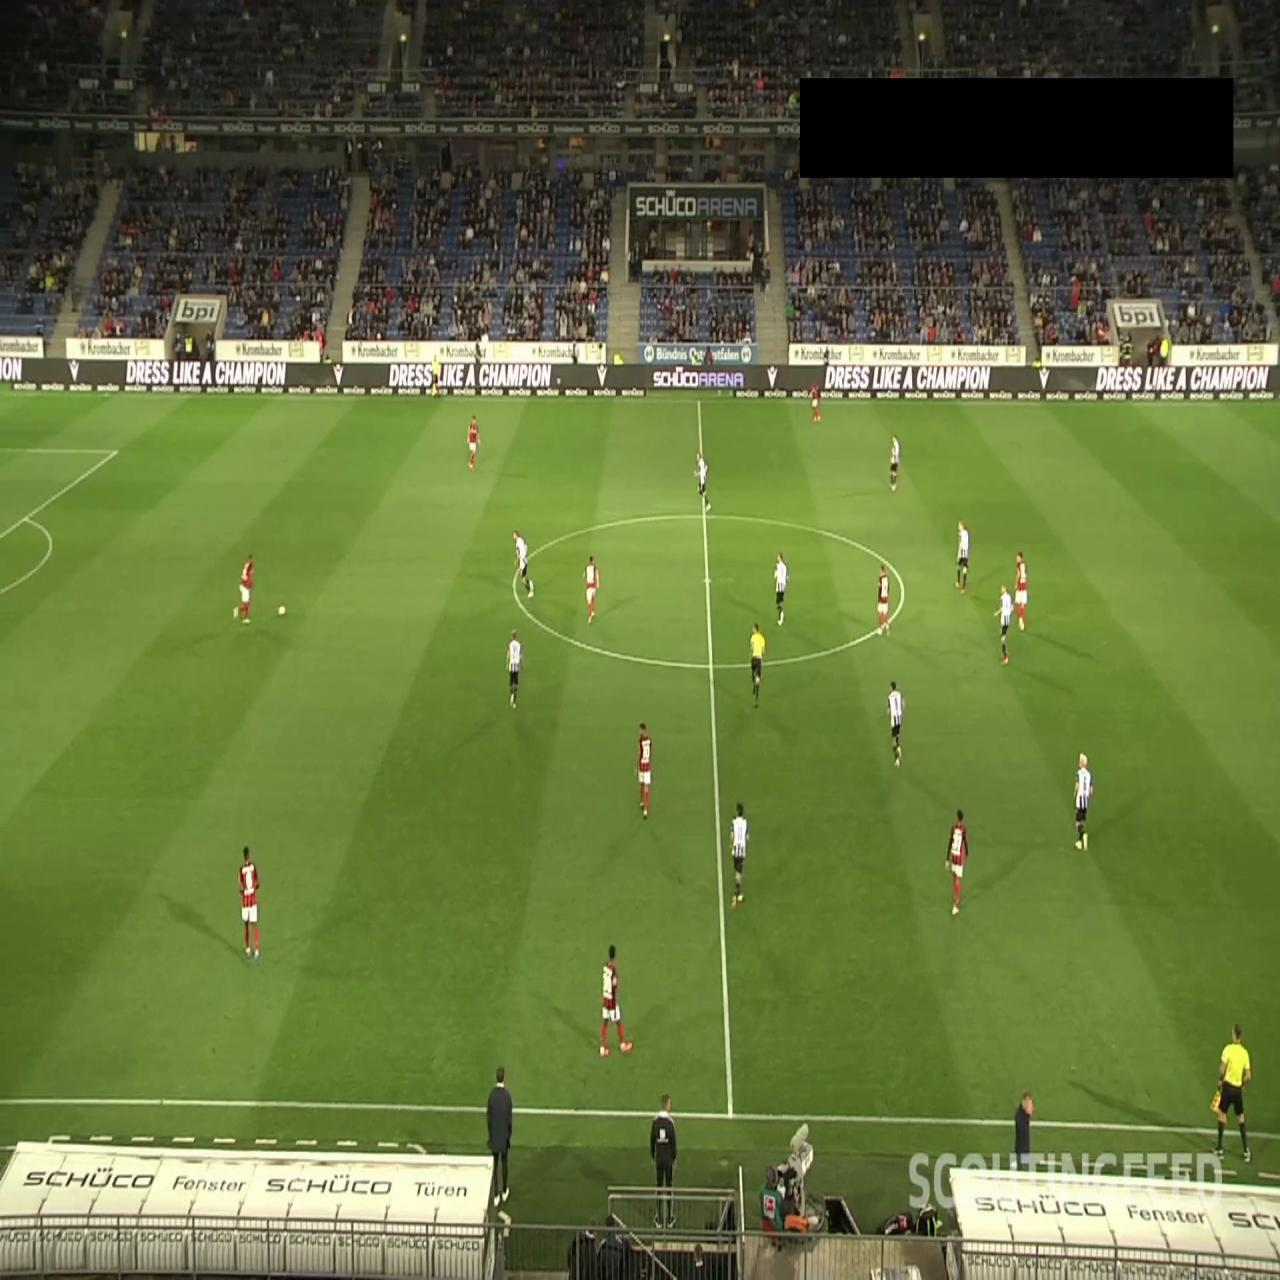ball: (277, 603, 287, 619)
player: (599, 942, 634, 1058), (238, 845, 262, 967), (945, 808, 969, 916), (1073, 751, 1094, 851), (730, 801, 749, 909), (636, 722, 653, 819), (993, 583, 1013, 665), (886, 678, 904, 768), (234, 554, 256, 624), (513, 529, 534, 596), (506, 628, 522, 711), (1013, 550, 1029, 632), (772, 551, 788, 626), (584, 554, 601, 624), (694, 450, 712, 515), (955, 520, 969, 594), (876, 564, 890, 638), (466, 414, 481, 472), (889, 434, 901, 492), (810, 378, 822, 425)
referee: (1213, 1022, 1253, 1162), (749, 620, 766, 709), (430, 353, 441, 398)
